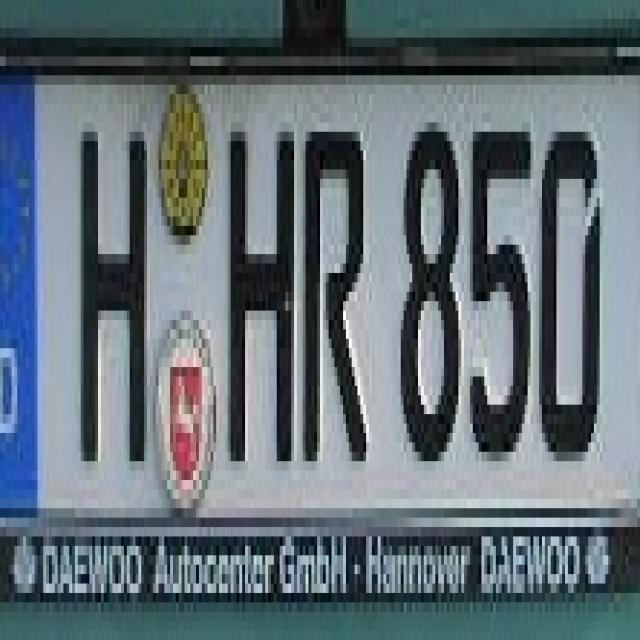0: (536, 104, 606, 461)
5: (467, 104, 533, 461)
8: (395, 94, 461, 471)
H: (75, 104, 150, 480), (219, 103, 294, 470)
